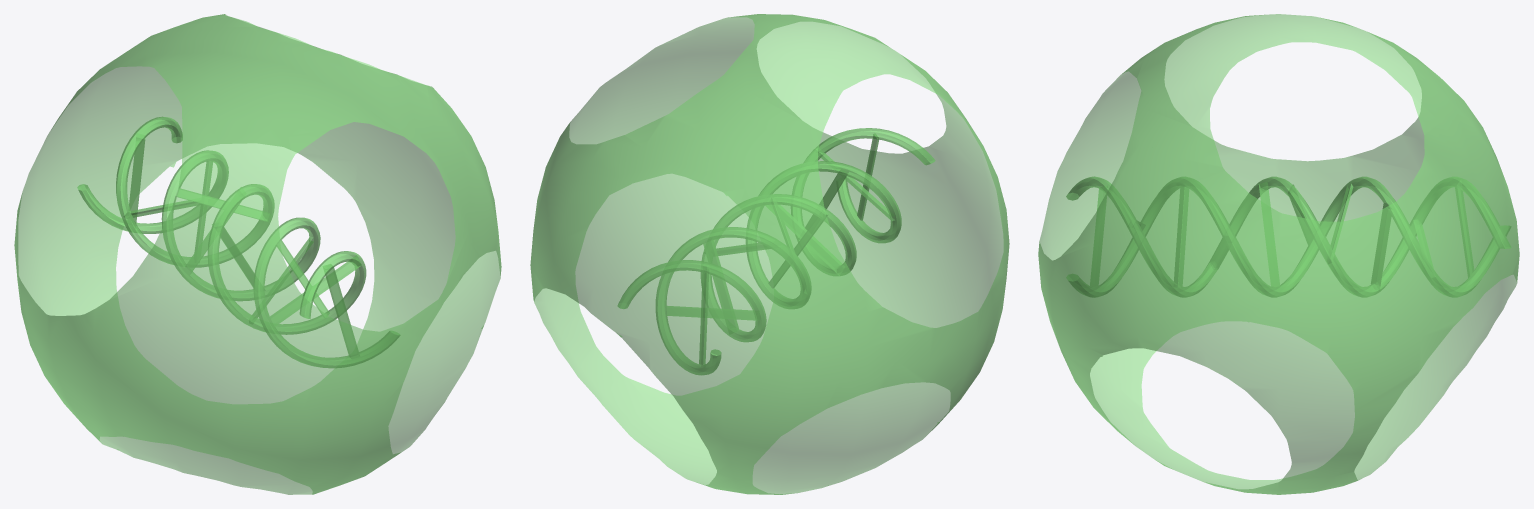
The model's file is tentaclepiece3.fbx.
3 renders of one model, left to right at view 1: azimuth 30°, elevation 25°; view 2: azimuth 150°, elevation 25°; view 3: azimuth 270°, elevation 25°, orthographic.
Parts seen in each view (by area): view 1: pSphere262, pHelix26; view 2: pSphere262, pHelix26; view 3: pSphere262, pHelix26.
Boxes of the visible parts, box(x1,y1,x2,y2) form: pSphere262: box(14, 14, 501, 494); pHelix26: box(77, 116, 400, 367); pSphere262: box(530, 14, 1009, 494); pHelix26: box(617, 128, 935, 375); pSphere262: box(1038, 14, 1519, 494); pHelix26: box(1066, 176, 1511, 297).
Bounding box in the file's own units: 9.99 × 9.97 × 10.
